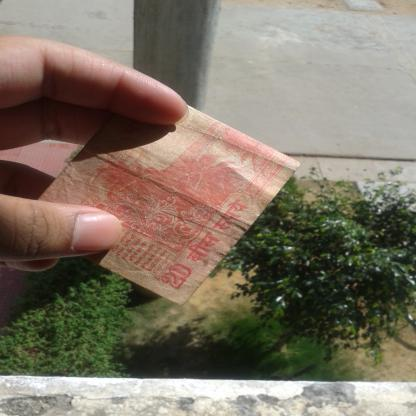Old20Back: (52, 99, 283, 296)
